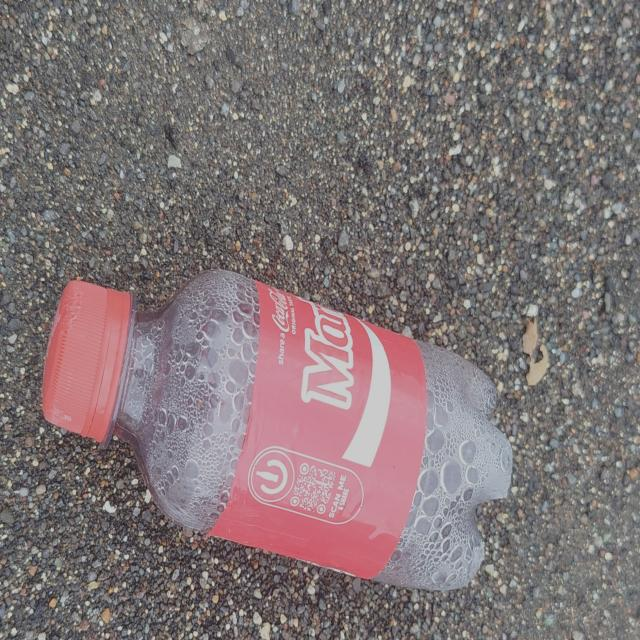plastic: (32, 260, 518, 605)
